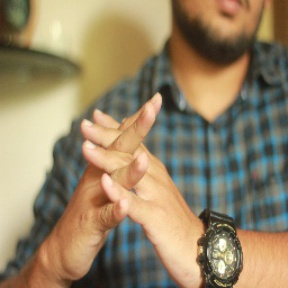W: (74, 85, 177, 249)
